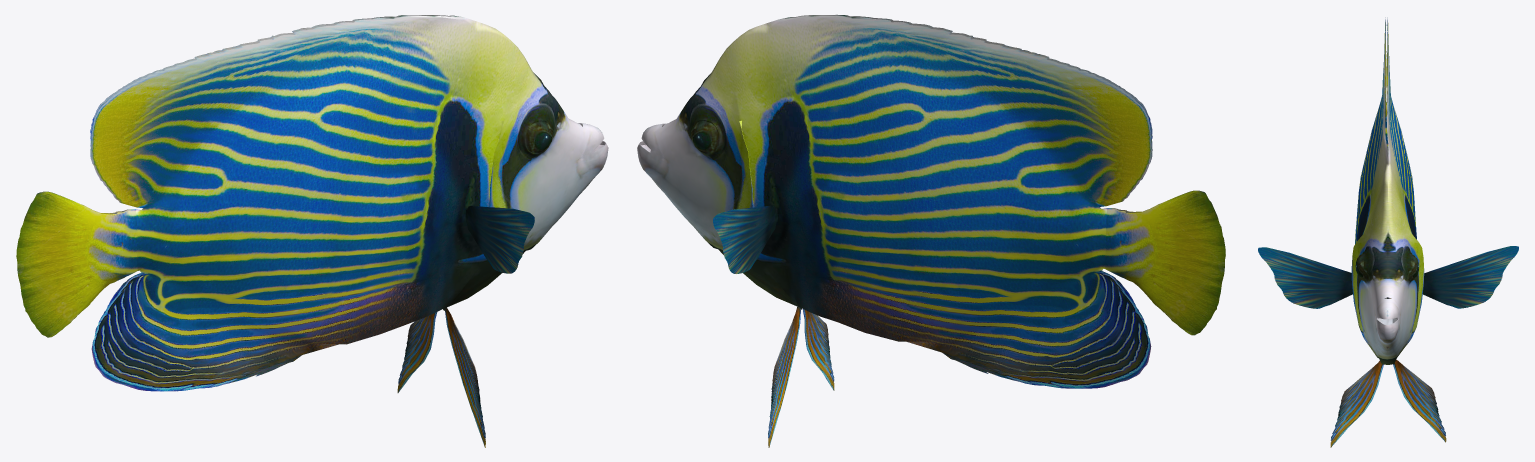
File: emperor_angelfish.obj
3 views of the same model, side by side, from view 1: azimuth 30°, elevation 25°; view 2: azimuth 150°, elevation 25°; view 3: azimuth 270°, elevation 25° (orthographic). The views are drawn at different scales.
Visible parts, largest first — view 1: obj1, obj6, obj2, obj5, obj4; view 2: obj1, obj6, obj3, obj4, obj5; view 3: obj1, obj3, obj2, obj5, obj4.
Boxes of the visible parts, box(x1,y1,x2,y2) form: obj1: box(90, 15, 608, 391); obj6: box(16, 191, 137, 337); obj2: box(465, 206, 534, 273); obj5: box(443, 307, 485, 447); obj4: box(397, 312, 437, 392); obj1: box(637, 14, 1152, 388); obj6: box(1105, 190, 1225, 335); obj3: box(713, 205, 777, 273); obj4: box(768, 306, 801, 447); obj5: box(802, 309, 834, 390); obj1: box(1351, 17, 1424, 364); obj3: box(1422, 246, 1518, 308); obj2: box(1258, 247, 1352, 308); obj5: box(1330, 360, 1383, 447); obj4: box(1393, 359, 1446, 442).
Size of the model in its own units: 1.14 by 0.7884 by 0.5843.
